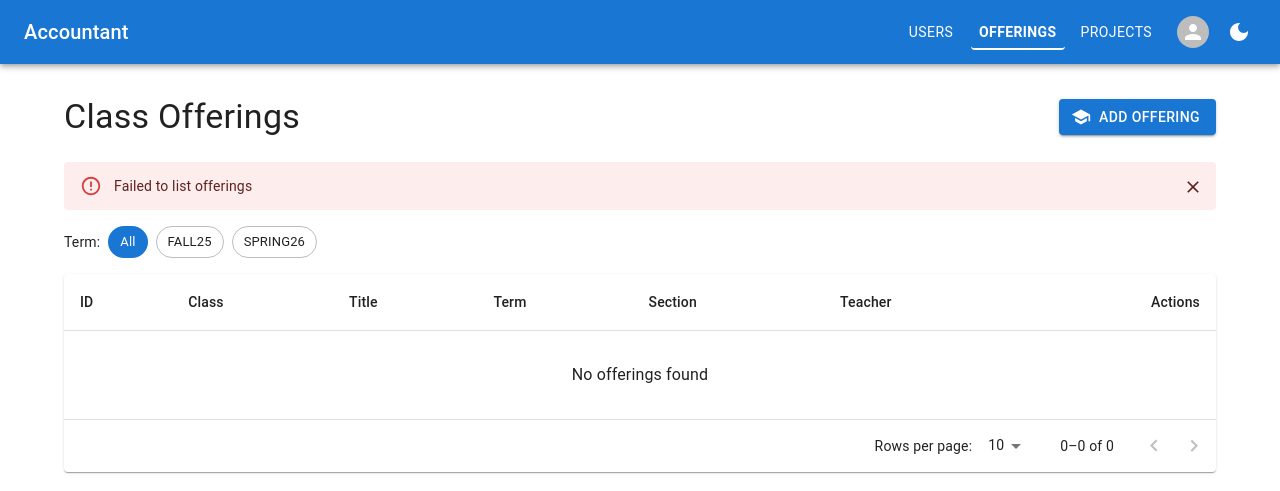
Test: Offerings page › shows an error banner when the list request fails
expect the text "Failed to list offerings" is shown: met, box [114,178,252,194]
// Dismiss the banner
Click the button named "Close" at (1193, 187), box [1178,172,1208,202]
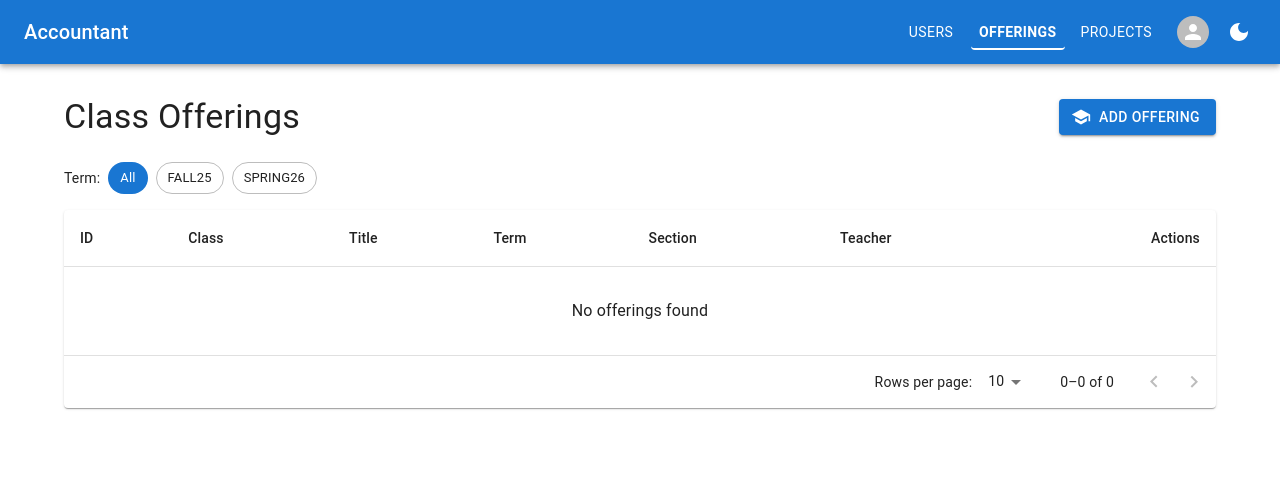
expect the text "Failed to list offerings" is gone: met
